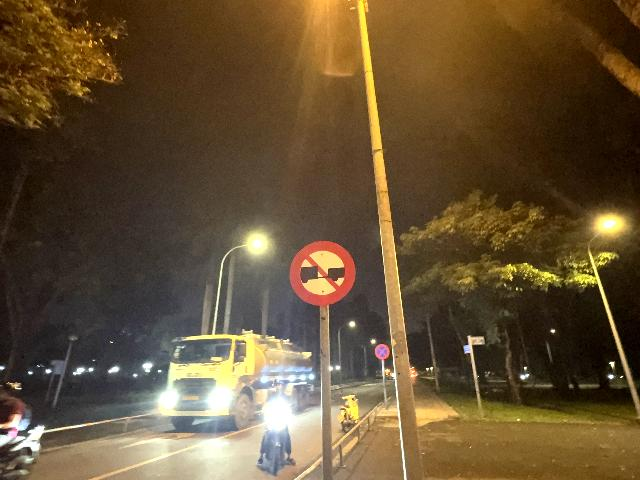cam-xe-somi-romooc: (289, 240, 356, 306)
